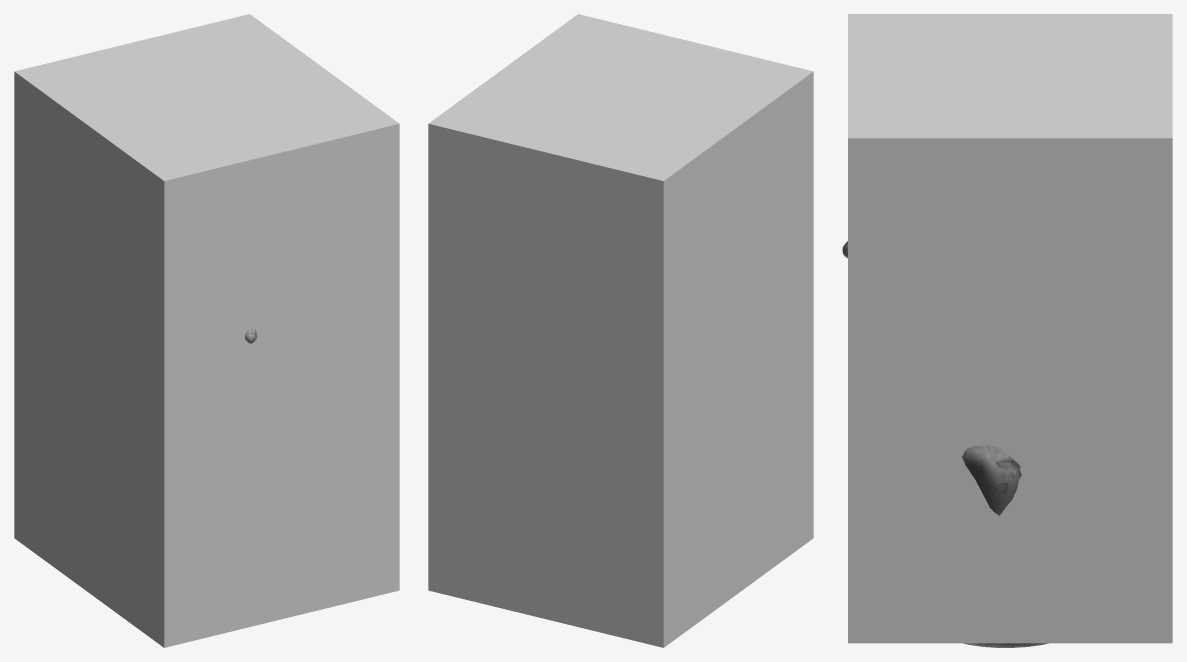
File: marble_bust.glb
3 views of the same model, side by side, from view 1: azimuth 30°, elevation 25°; view 2: azimuth 150°, elevation 25°; view 3: azimuth 270°, elevation 25° (orthographic). The views are drawn at different scales.
Parts seen in each view (by area): view 1: marble_bust-col; view 2: marble_bust-col; view 3: marble_bust-col, marble_bust_01.
Boxes of the visible parts, x1,y1,x2,y2 form: marble_bust-col: [14, 14, 399, 647]; marble_bust-col: [428, 14, 813, 647]; marble_bust-col: [848, 14, 1172, 643]; marble_bust_01: [842, 241, 1048, 647].
Size of the model in its own units: 0.2847 by 0.5432 by 0.305.
1 material, 1 textured.
